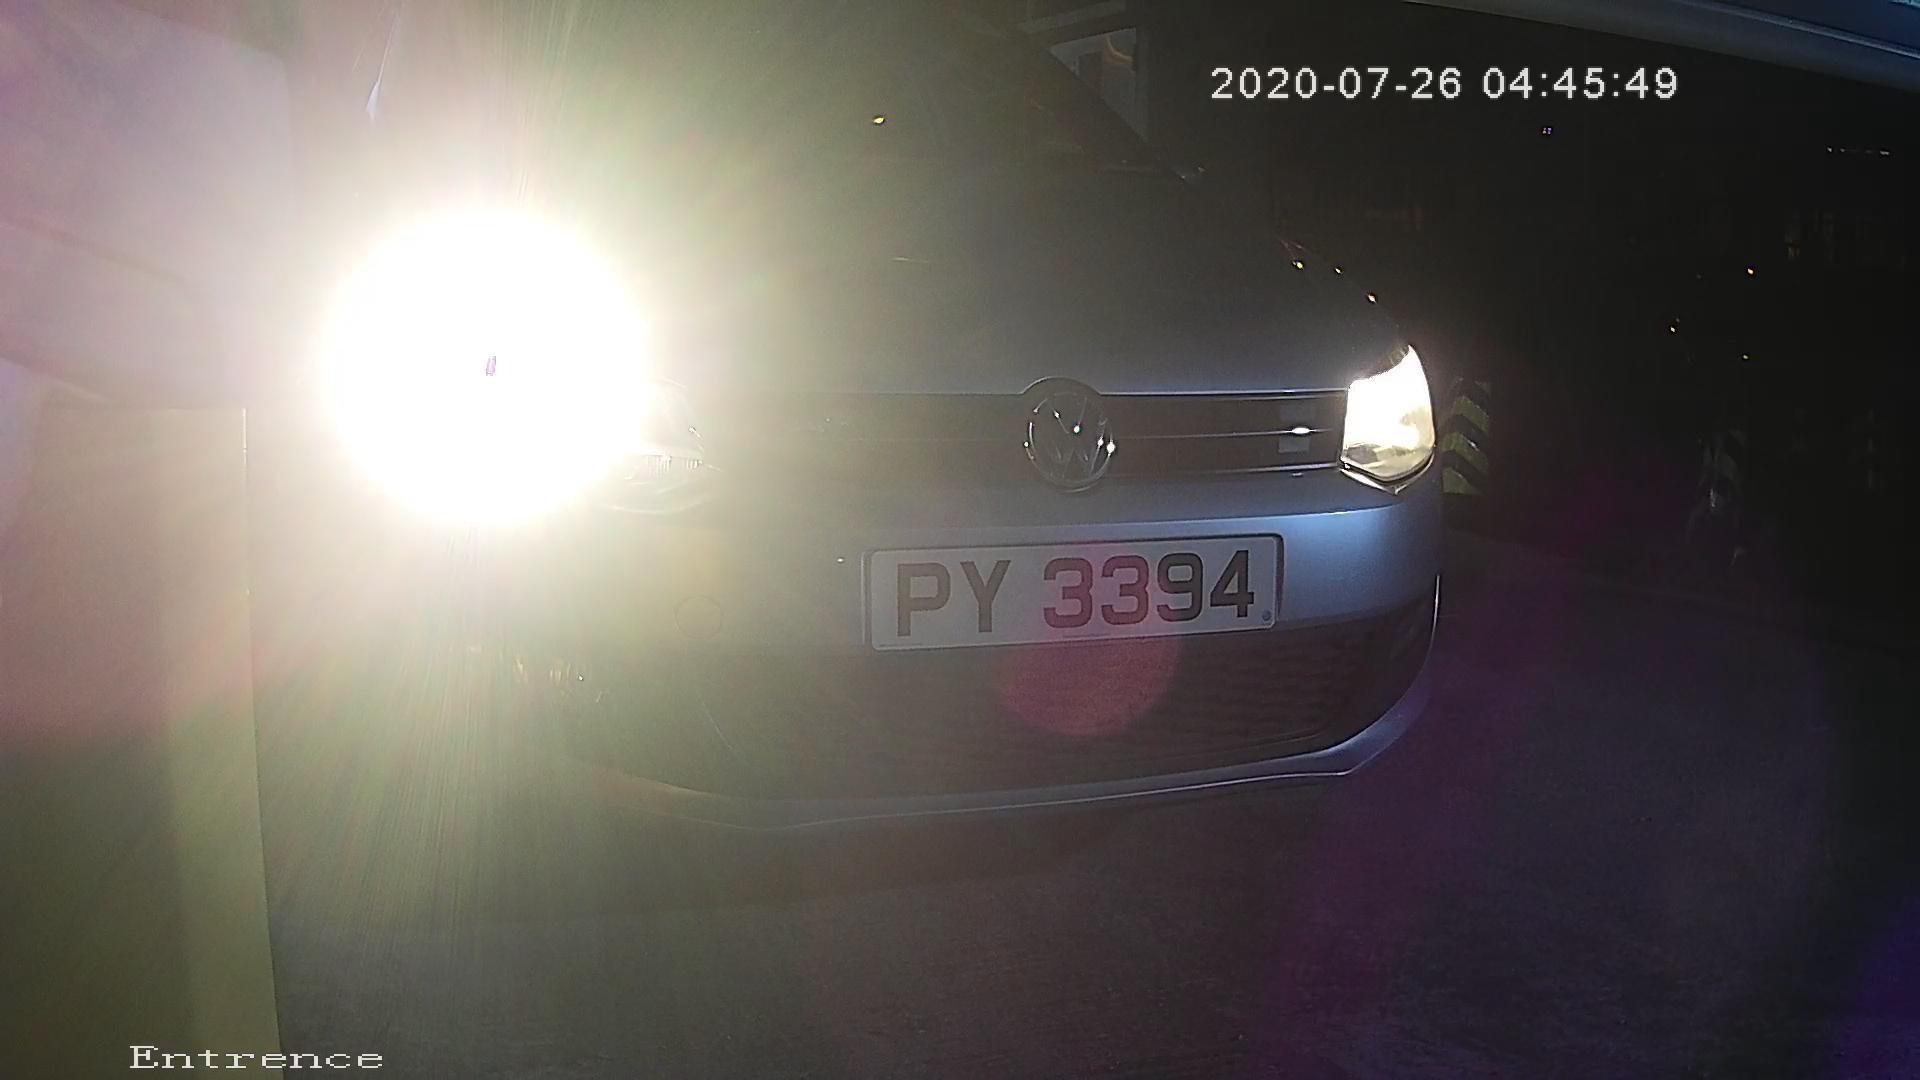privatecar: (123, 3, 1513, 916)
